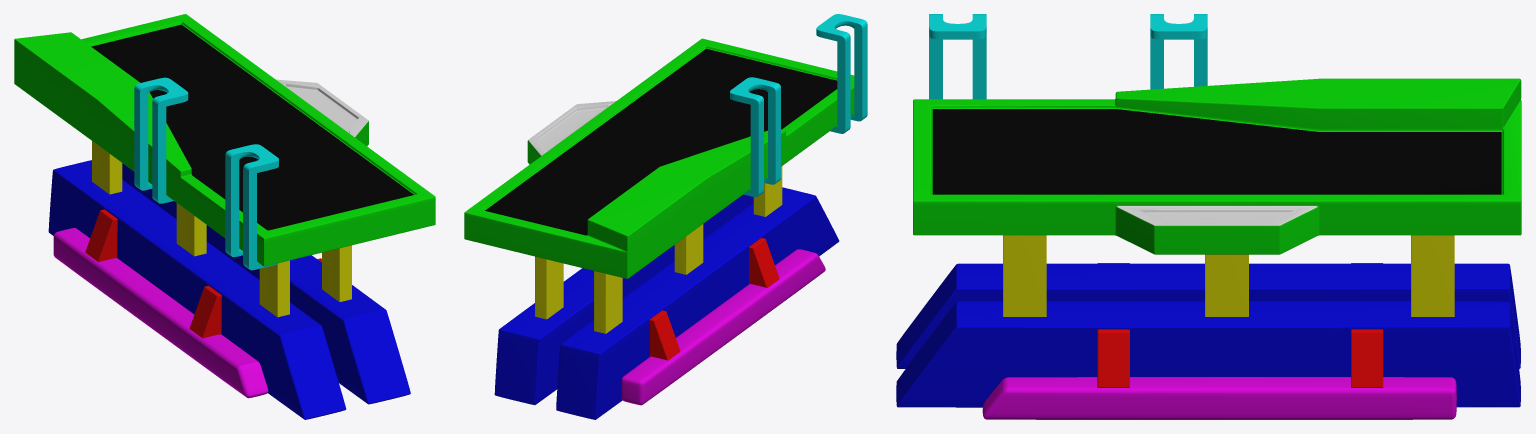
The model's file is Armoury_Table.fbx.
3 renders of one model, left to right at view 1: azimuth 30°, elevation 25°; view 2: azimuth 150°, elevation 25°; view 3: azimuth 270°, elevation 25°, orthographic. The views are drawn at different scales.
Visible parts, largest first — view 1: Scifi_Table; view 2: Scifi_Table; view 3: Scifi_Table.
Boxes of the visible parts, x1,y1,x2,y2 form: Scifi_Table: [14, 14, 435, 419]; Scifi_Table: [464, 14, 867, 419]; Scifi_Table: [896, 14, 1521, 419].
Size of the model in its own units: 122 by 138 by 255.
